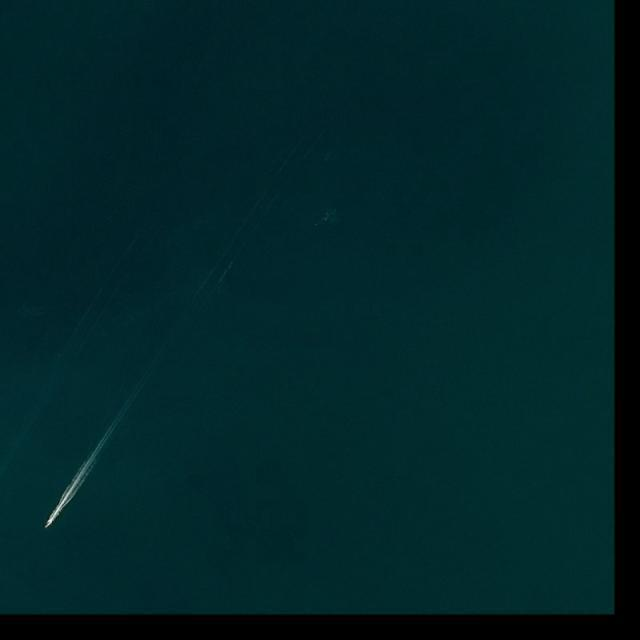ship: (44, 521, 50, 530)
